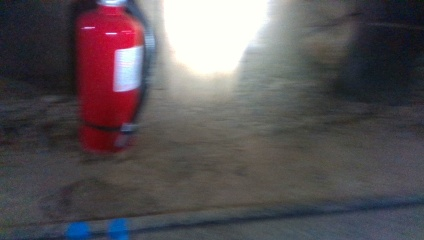fire_extinguisher: (72, 0, 155, 159)
